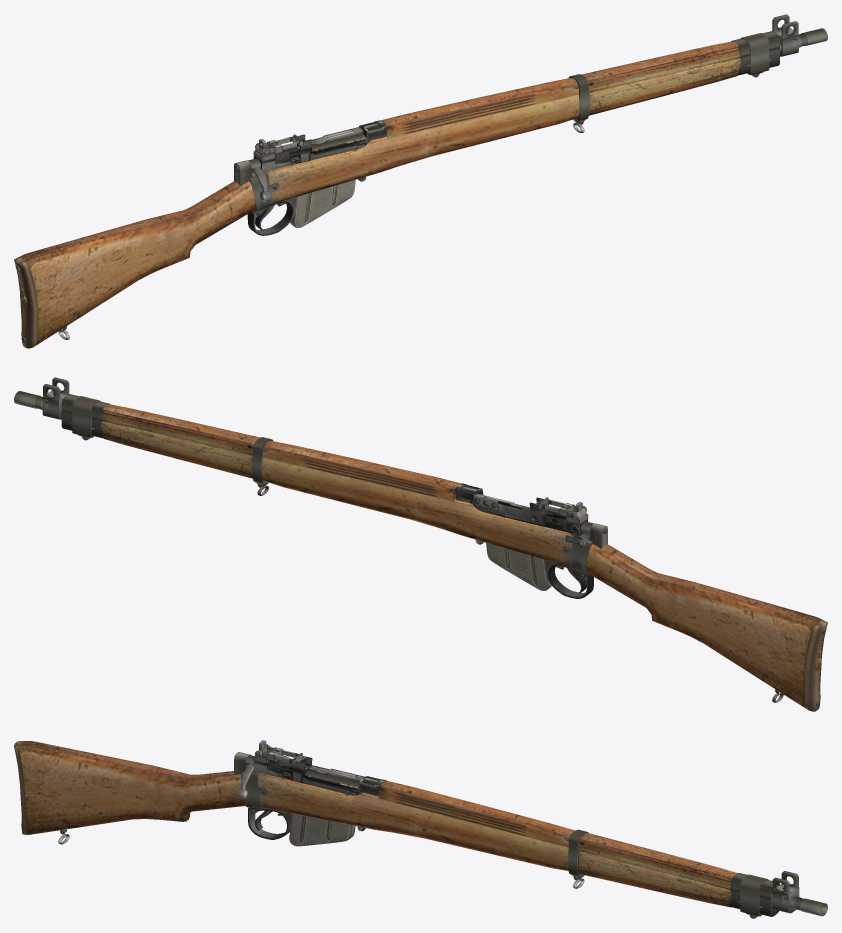
File: BritishNo4_spRH.fbx
The picture shows the model from 3 angles, top to bottom: view 1: azimuth 30°, elevation 25°; view 2: azimuth 150°, elevation 25°; view 3: azimuth 330°, elevation 25°; orthographic projection.
Visible parts, largest first — view 1: BritishNo4_spRH; view 2: BritishNo4_spRH; view 3: BritishNo4_spRH.
Part boxes in pixels (x1,y1,x2,y2): BritishNo4_spRH: [14, 14, 827, 348]; BritishNo4_spRH: [14, 377, 827, 711]; BritishNo4_spRH: [14, 740, 827, 918].
Size of the model in its own units: 446 by 79.1 by 21.17.
Materials: 2 (2 with a texture image).
